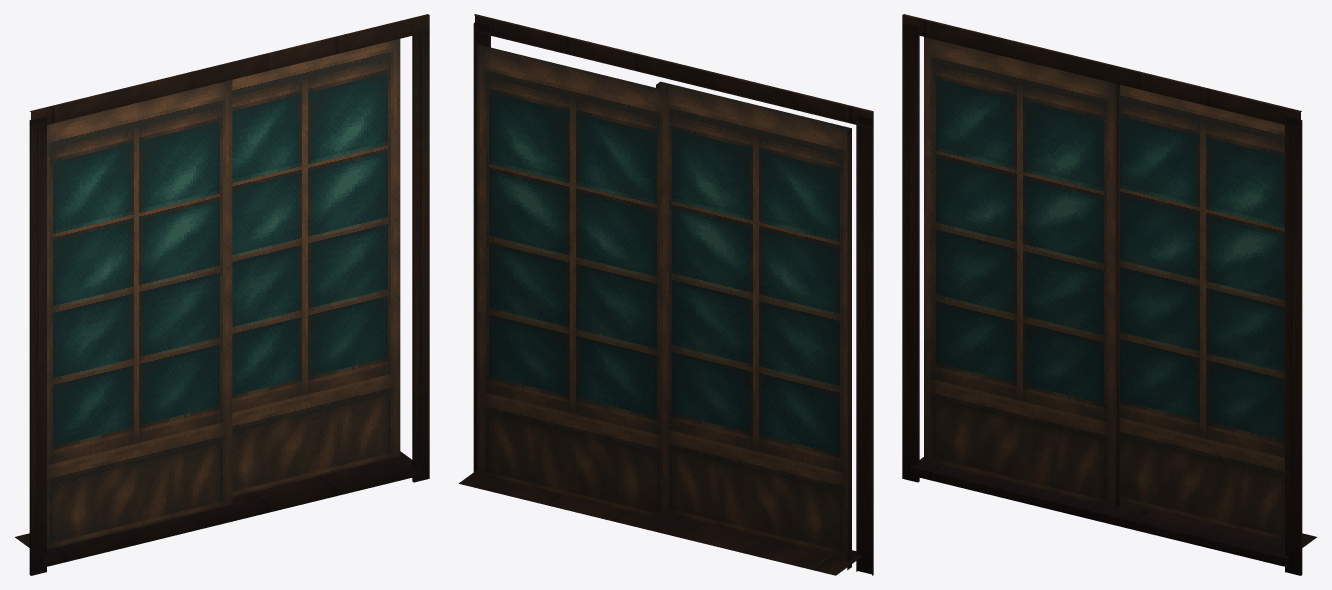
The model's file is prop_sash-14-16-0.glb.
3 views of the same model, side by side, from view 1: azimuth 30°, elevation 25°; view 2: azimuth 150°, elevation 25°; view 3: azimuth 330°, elevation 25° (orthographic).
Visible parts, largest first — view 1: prop_sash-14-16-0; view 2: prop_sash-14-16-0; view 3: prop_sash-14-16-0.
Boxes of the visible parts, bbox=[...] form: prop_sash-14-16-0: bbox=[15, 14, 429, 575]; prop_sash-14-16-0: bbox=[459, 14, 873, 575]; prop_sash-14-16-0: bbox=[902, 14, 1316, 575].
Size of the model in its own units: 1.52 by 1.69 by 0.2.
Materials: 2 (2 with a texture image).
